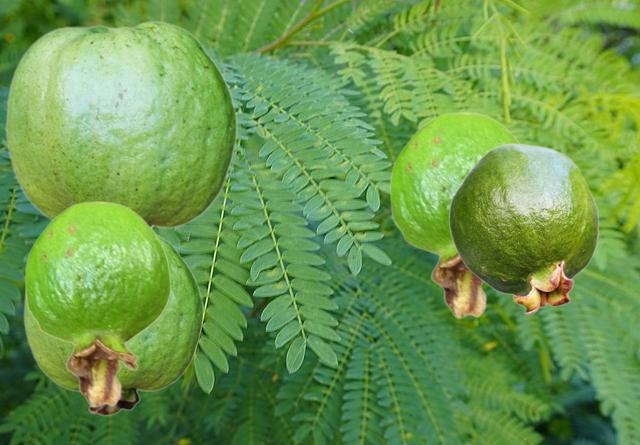guava: (5, 21, 237, 233), (23, 234, 203, 415), (24, 200, 170, 407), (389, 111, 519, 318), (448, 143, 598, 314)
